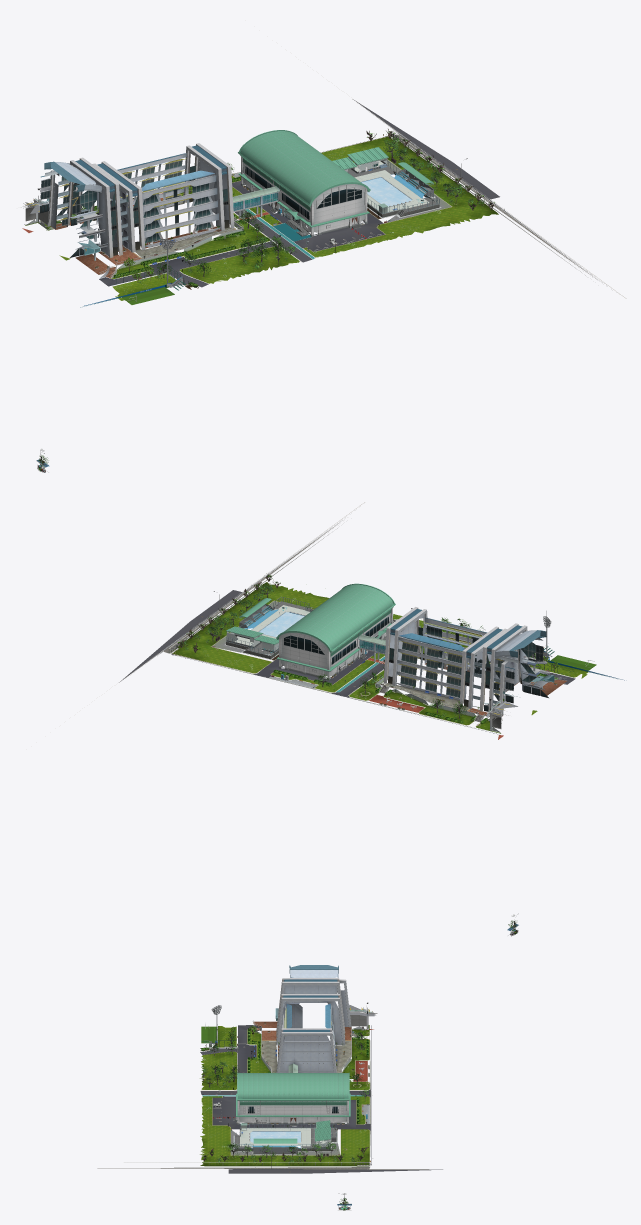
Rendered from raimonS1.glb.
3 views of the same model, one above another, from view 1: azimuth 30°, elevation 25°; view 2: azimuth 150°, elevation 25°; view 3: azimuth 270°, elevation 25° (orthographic). The views are drawn at different scales.
Visible parts, largest first — view 1: w40h001__0__169__0_r1, w40g001__1__168__0_r1, w40h002__0__191__0, w40g002__10__313__0_r1, w40h006__0__195__0, tr004__0__932__0, w40g002__4__307__0, w40h001__13__181__0_r1, w40h002__3__194__0, w40h001f__1__547__0_r1, tr122__2__1357__0, w40h006__14__208__0 (+4 smaller); view 2: w40h001__0__169__0_r1, w40h002__0__191__0, w40g001__1__168__0_r1, w40h006__0__195__0, w40g002__10__313__0_r1, w40h001r__1__555__0_r1, w40g002__4__307__0, w40h002__3__194__0, w40g000__15__342__0_r1; view 3: w40h001__0__169__0_r1, w40g001__1__168__0_r1, w40h002__0__191__0, w40g002__10__313__0_r1, w40h006__0__195__0, w40h001__15__183__0_r1, w40g002__4__307__0, w40g000__2__329__0, w40g000__15__342__0_r1, w40h001__13__181__0_r1, tr005__2__966__0, w40h006__14__208__0 (+1 smaller).
Part boxes in pixels (x1,y1,x2,y2): w40h001__0__169__0_r1: (26, 143, 279, 278); w40g001__1__168__0_r1: (25, 136, 498, 300); w40h002__0__191__0: (238, 130, 370, 236); w40g002__10__313__0_r1: (24, 99, 499, 287); w40h006__0__195__0: (332, 147, 439, 217); tr004__0__932__0: (38, 209, 285, 462); w40g002__4__307__0: (63, 130, 602, 286); w40h001__13__181__0_r1: (50, 221, 219, 274); w40h002__3__194__0: (245, 166, 361, 219); w40h001f__1__547__0_r1: (143, 183, 211, 243); tr122__2__1357__0: (39, 215, 269, 470); w40h006__14__208__0: (361, 177, 411, 206); w40h001__0__169__0_r1: (358, 607, 567, 732); w40h002__0__191__0: (276, 583, 395, 680); w40g001__1__168__0_r1: (172, 582, 587, 733); w40h006__0__195__0: (226, 598, 313, 659); w40g002__10__313__0_r1: (119, 590, 575, 734); w40h001r__1__555__0_r1: (400, 642, 503, 697); w40g002__4__307__0: (158, 517, 490, 727); w40h002__3__194__0: (284, 617, 389, 664); w40g000__15__342__0_r1: (163, 520, 342, 653); w40h001__0__169__0_r1: (249, 965, 374, 1072); w40g001__1__168__0_r1: (200, 1025, 369, 1166); w40h002__0__191__0: (233, 1072, 350, 1126); w40g002__10__313__0_r1: (200, 1025, 442, 1173); w40h006__0__195__0: (234, 1120, 336, 1153); w40h001__15__183__0_r1: (262, 1041, 351, 1072); w40g002__4__307__0: (201, 1029, 369, 1169); w40g000__2__329__0: (231, 1028, 368, 1155); w40g000__15__342__0_r1: (97, 1166, 369, 1169); w40h001__13__181__0_r1: (253, 1021, 351, 1056); tr005__2__966__0: (226, 1141, 337, 1154); w40h006__14__208__0: (250, 1132, 300, 1142).
Size of the model in its own units: 193 by 133 by 302.
Materials: 167 (165 with a texture image).
